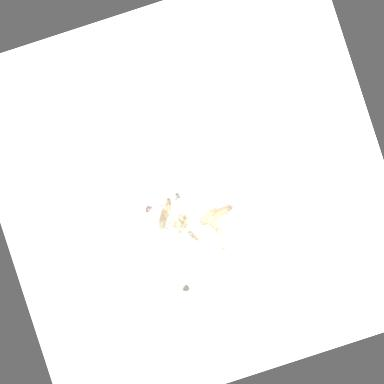pbw: (208, 198, 238, 226), (158, 196, 176, 216)
